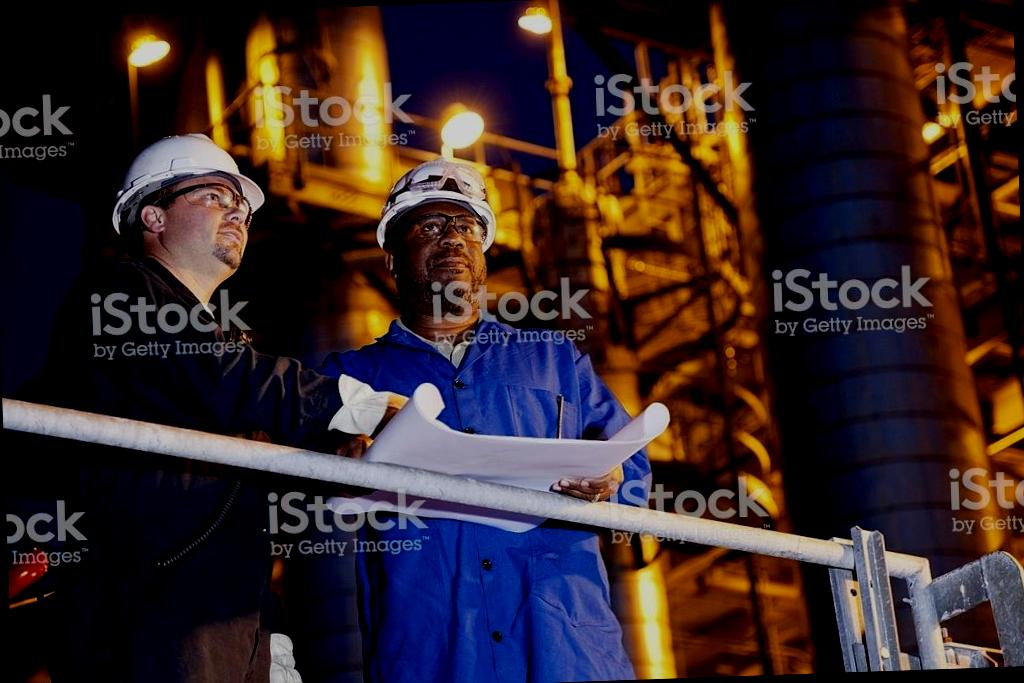helmet: (102, 127, 274, 239), (366, 149, 504, 251)
no_vest: (350, 310, 570, 450), (56, 248, 230, 424)
person: (329, 144, 634, 683), (41, 125, 296, 683)
